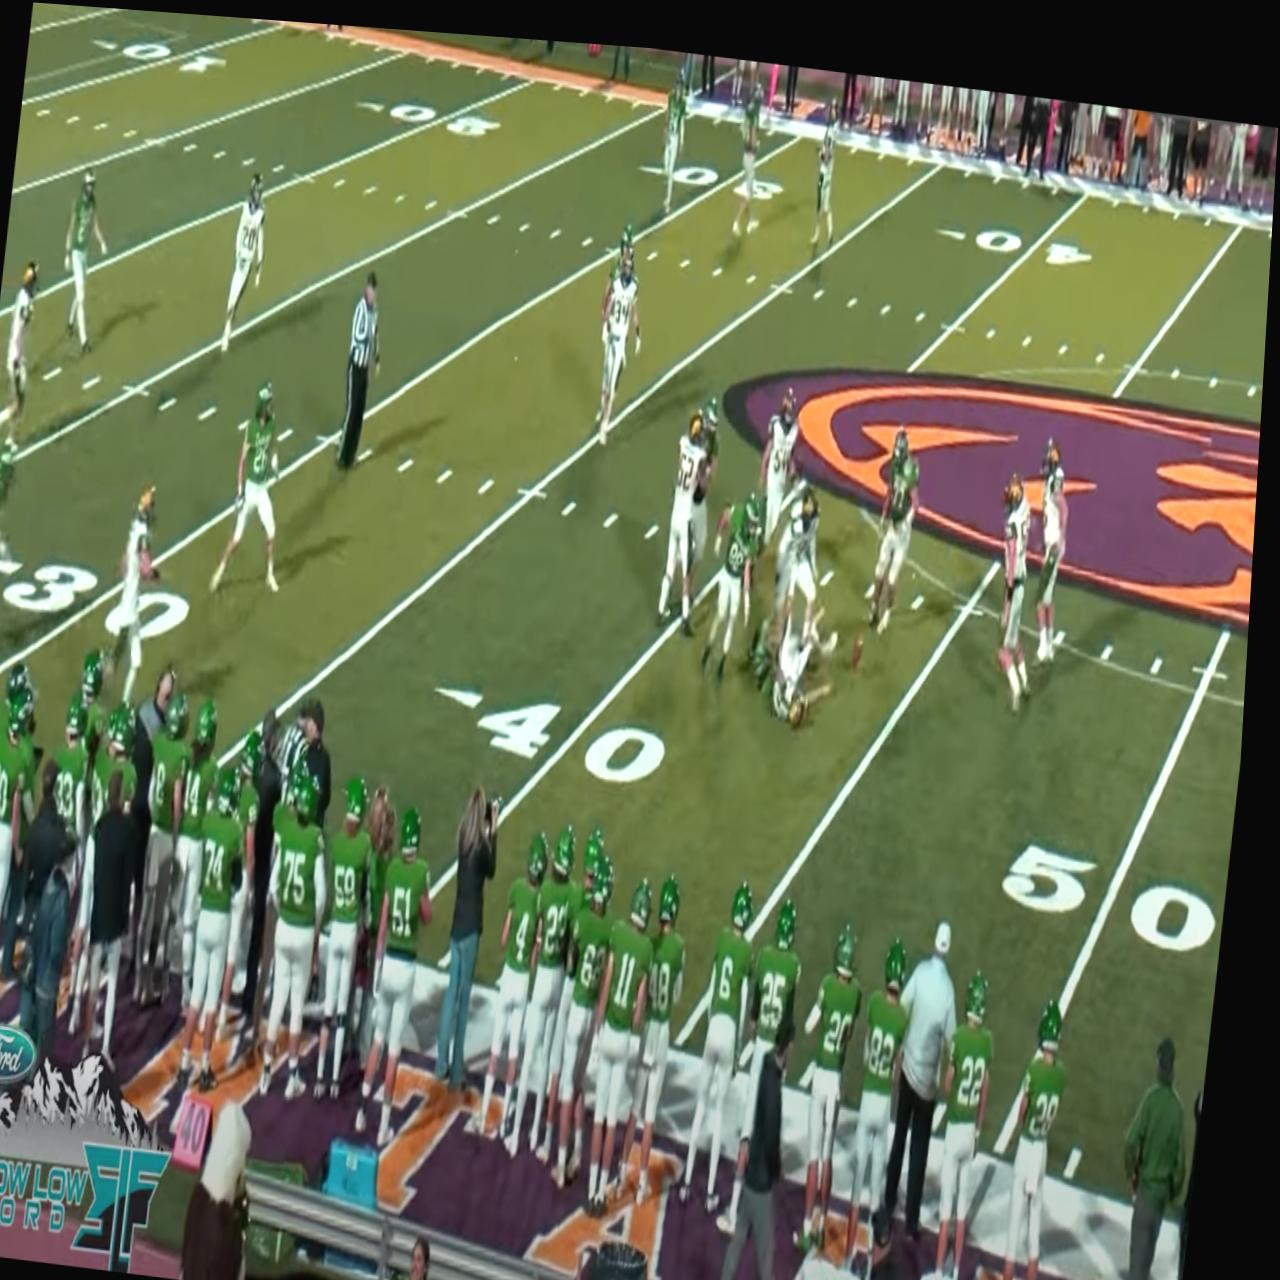10L: (90, 26, 230, 76)
20L: (350, 84, 505, 138)
30L: (0, 543, 203, 645), (636, 143, 789, 193)
40L: (434, 676, 678, 779), (934, 204, 1097, 254)
50: (1006, 821, 1232, 939)
